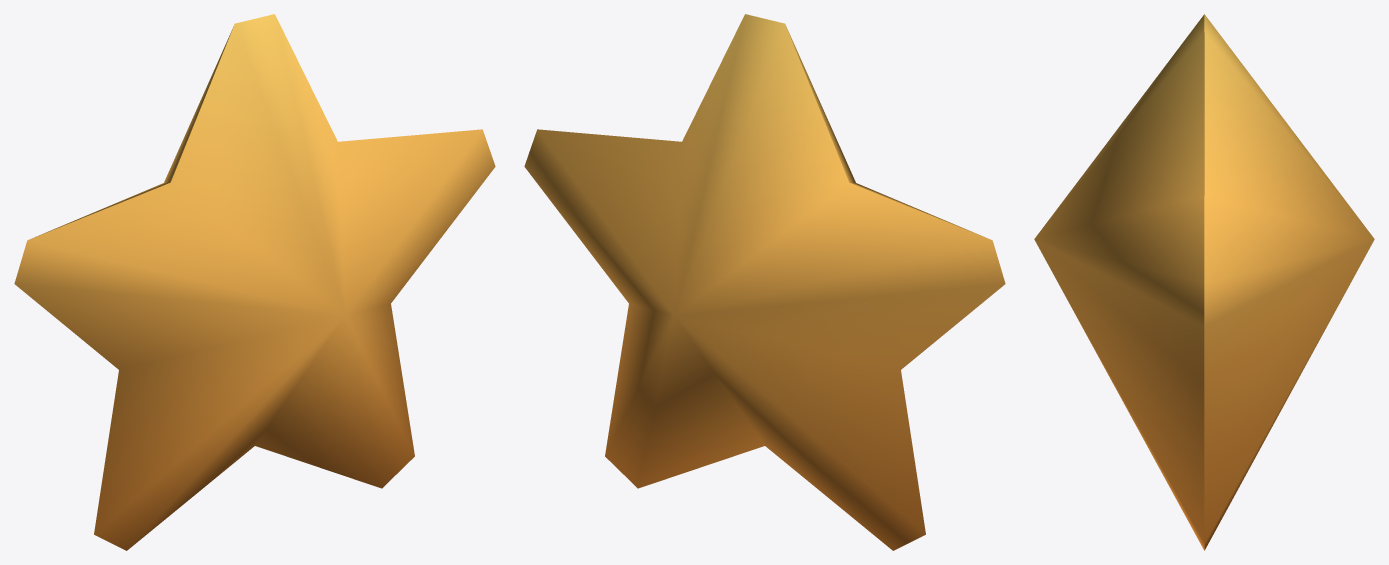
File: star.glb
3 renders of one model, left to right at view 1: azimuth 30°, elevation 25°; view 2: azimuth 150°, elevation 25°; view 3: azimuth 270°, elevation 25°, orthographic. The views are drawn at different scales.
Visible parts, largest first — view 1: star; view 2: star; view 3: star.
Part boxes in pixels (<box>): star: <box>14,14,495,550</box>; star: <box>524,14,1005,550</box>; star: <box>1034,14,1374,550</box>.
Size of the model in its own units: 0.365 by 0.3631 by 0.2385.
1 material, 1 textured.
